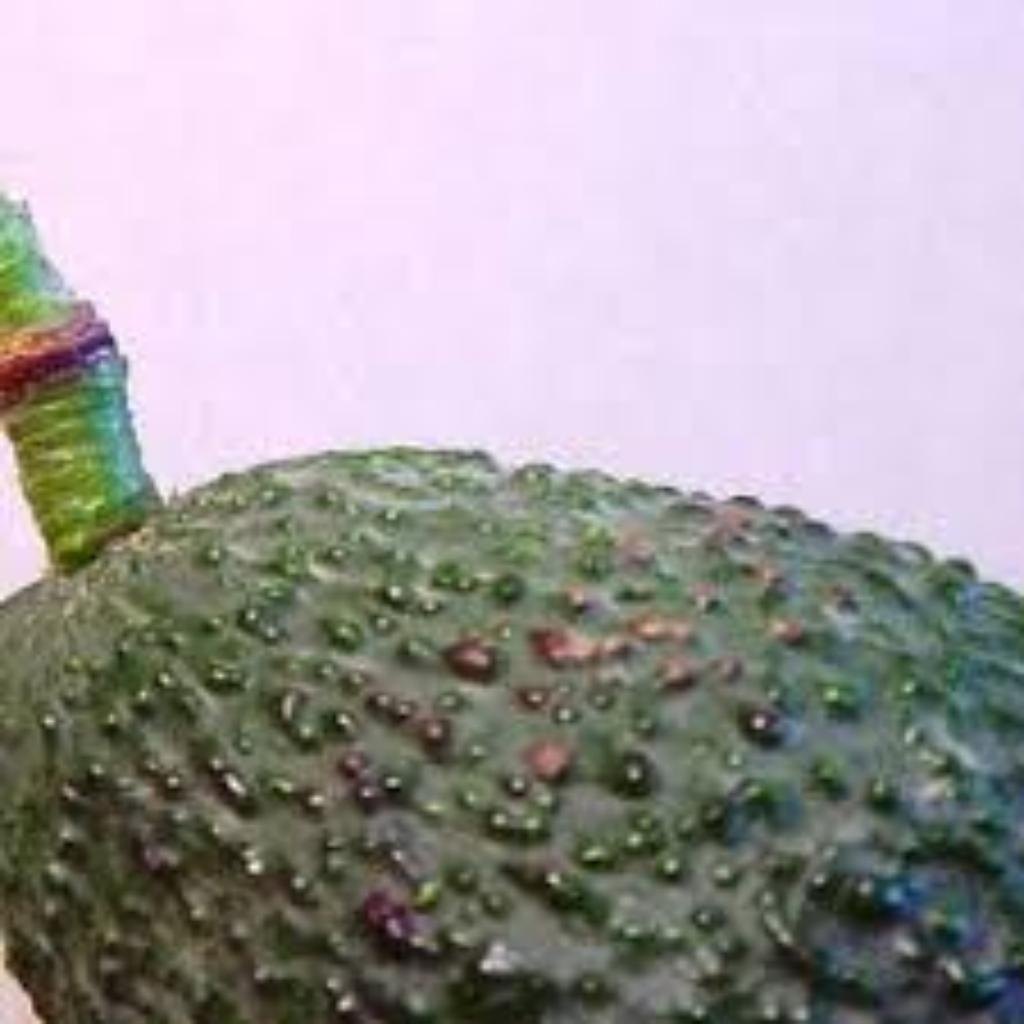cercospora: (0, 432, 1014, 1024)
